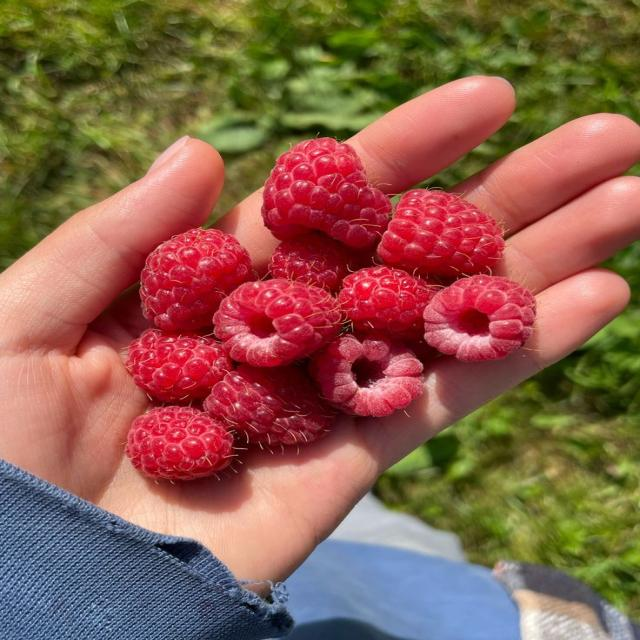raspberry: (262, 138, 391, 248), (140, 229, 254, 331), (214, 279, 342, 367), (379, 190, 504, 276), (205, 365, 335, 444), (425, 275, 535, 361), (310, 335, 423, 416), (127, 406, 233, 480), (127, 329, 232, 401), (339, 266, 438, 340), (269, 234, 359, 292)
